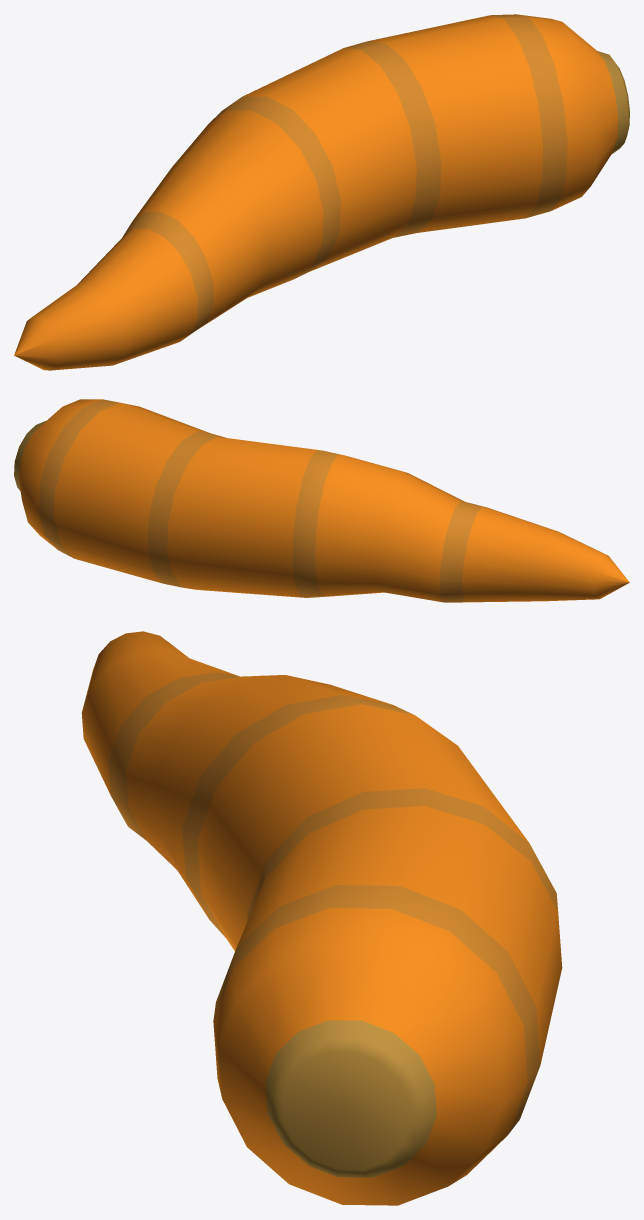
The model's file is ASFTR_RawCarrot.fbx.
3 views of the same model, one above another, from view 1: azimuth 30°, elevation 25°; view 2: azimuth 150°, elevation 25°; view 3: azimuth 270°, elevation 25° (orthographic). The views are drawn at different scales.
Parts seen in each view (by area): view 1: ASFTR_RawCarrot; view 2: ASFTR_RawCarrot; view 3: ASFTR_RawCarrot.
Part boxes in pixels (left/top/right/bottom): ASFTR_RawCarrot: left=14, top=14, right=629, bottom=370; ASFTR_RawCarrot: left=14, top=399, right=629, bottom=602; ASFTR_RawCarrot: left=81, top=631, right=562, bottom=1205.
Bounding box in the file's own units: 93.32 × 24.47 × 35.69.
